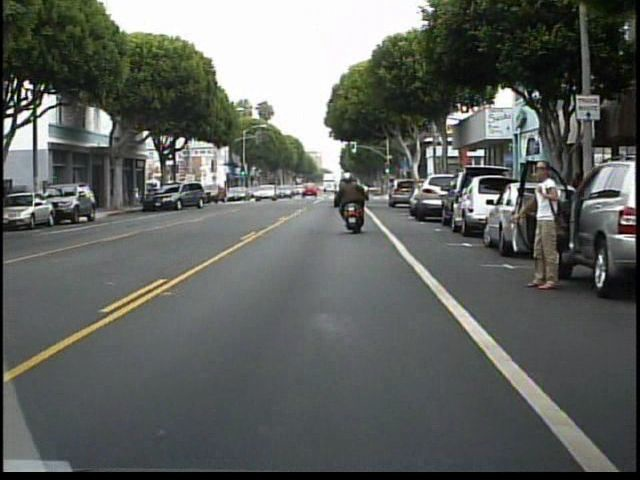person: (523, 153, 571, 297), (330, 169, 370, 233)
